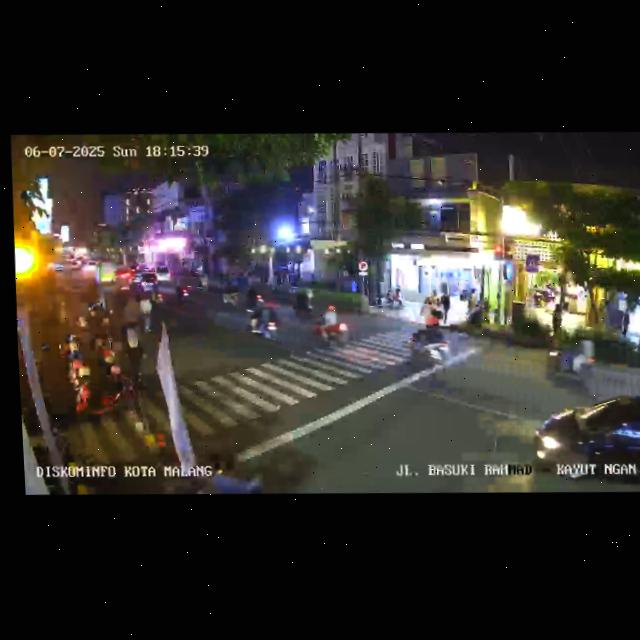car: (531, 390, 640, 491)
motorcycle: (544, 337, 597, 391), (405, 319, 452, 378), (313, 303, 352, 349), (245, 296, 281, 342), (289, 287, 315, 319), (219, 277, 241, 309), (175, 277, 192, 303)
person: (199, 447, 267, 494), (121, 321, 145, 385), (137, 298, 154, 337), (439, 290, 454, 325), (549, 302, 563, 334), (419, 297, 434, 324), (467, 289, 480, 320), (619, 308, 630, 337), (432, 298, 443, 326)
